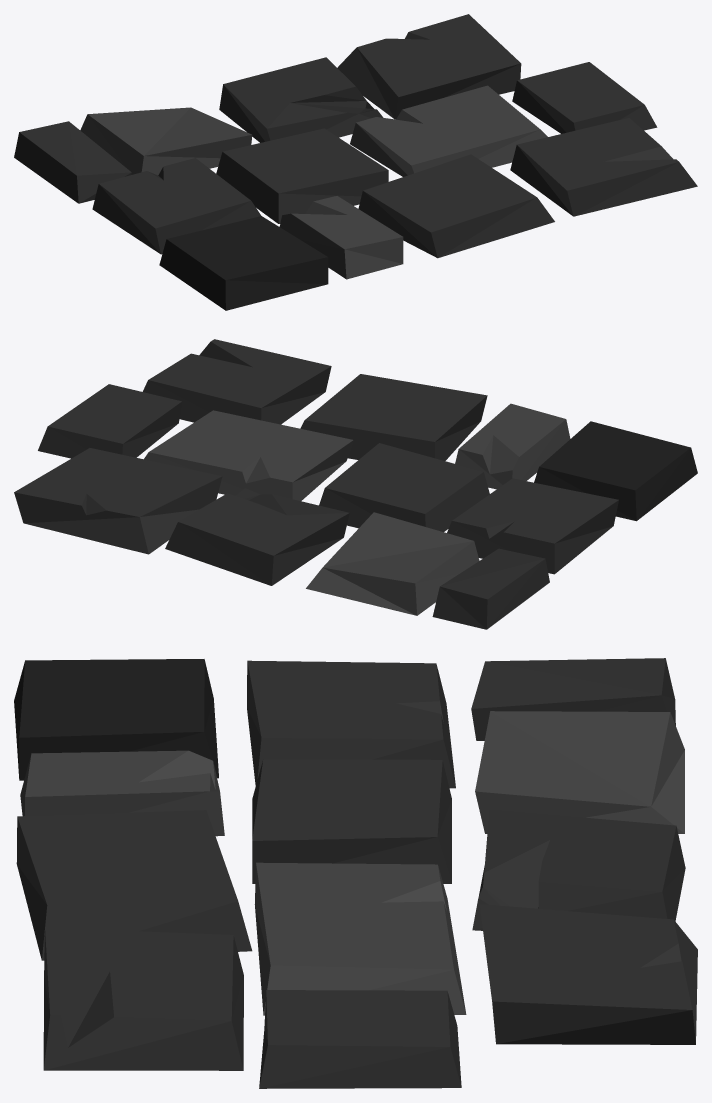
File: road-square.fbx
The picture shows the model from 3 angles, top to bottom: view 1: azimuth 30°, elevation 25°; view 2: azimuth 150°, elevation 25°; view 3: azimuth 270°, elevation 25°; orthographic projection. The views are drawn at different scales.
Parts seen in each view (by area): view 1: road-s-5, road-s-6, road-s-8, road-s-10, road-s-12, road-s-2, road-s-4, road-s-3, road-s-1, road-s-7, road-s-11, road-s-9; view 2: road-s-8, road-s-12, road-s-3, road-s-1, road-s-5, road-s-6, road-s-4, road-s-2, road-s-10, road-s-7, road-s-9, road-s-11; view 3: road-s-6, road-s-8, road-s-12, road-s-5, road-s-1, road-s-2, road-s-4, road-s-7, road-s-3, road-s-10, road-s-11, road-s-9.
Boxes of the visible parts, <box> form: road-s-5: <box>358,154,554,258</box>; road-s-6: <box>510,118,697,216</box>; road-s-8: <box>337,14,521,119</box>; road-s-10: <box>159,216,328,310</box>; road-s-12: <box>350,85,547,176</box>; road-s-2: <box>216,128,388,223</box>; road-s-4: <box>92,158,261,254</box>; road-s-3: <box>219,57,383,142</box>; road-s-1: <box>80,107,252,175</box>; road-s-7: <box>512,62,657,133</box>; road-s-11: <box>279,196,403,279</box>; road-s-9: <box>14,121,131,203</box>; road-s-8: <box>14,448,222,554</box>; road-s-12: <box>144,410,353,500</box>; road-s-3: <box>165,488,349,585</box>; road-s-1: <box>306,512,479,615</box>; road-s-5: <box>300,374,487,460</box>; road-s-6: <box>142,339,331,424</box>; road-s-4: <box>447,478,618,574</box>; road-s-2: <box>319,443,489,531</box>; road-s-10: <box>534,421,697,521</box>; road-s-7: <box>38,384,182,458</box>; road-s-9: <box>432,548,549,629</box>; road-s-11: <box>455,403,570,489</box>; road-s-6: <box>43,927,243,1070</box>; road-s-8: <box>479,904,697,1044</box>; road-s-12: <box>254,862,466,1015</box>; road-s-5: <box>16,810,252,960</box>; road-s-1: <box>475,711,684,833</box>; road-s-2: <box>252,759,451,883</box>; road-s-4: <box>247,660,455,788</box>; road-s-7: <box>259,990,461,1088</box>; road-s-3: <box>472,809,685,930</box>; road-s-10: <box>14,659,218,780</box>; road-s-11: <box>20,750,224,836</box>; road-s-9: <box>471,658,675,740</box>.
Size of the model in its own units: 244 by 16.12 by 179.
